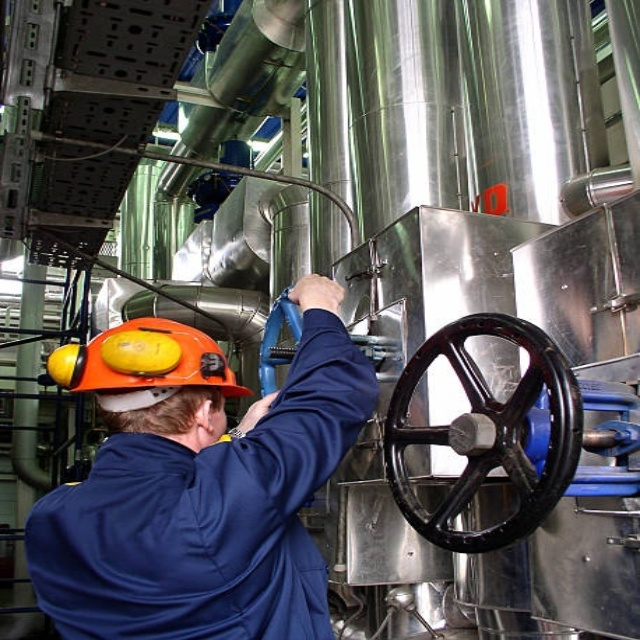Sin_guantes: (287, 273, 344, 314)
